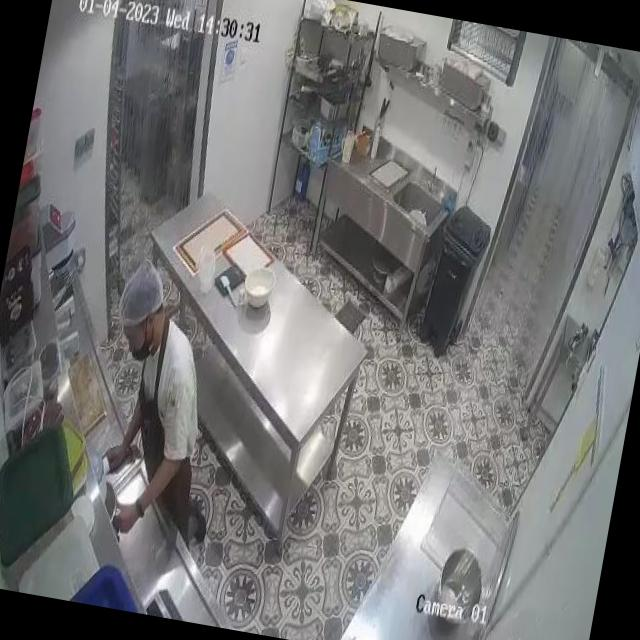hairnet: (120, 256, 166, 322)
